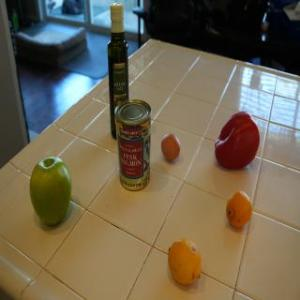bell_pepper: (208, 111, 270, 169)
egg: (160, 132, 182, 164)
